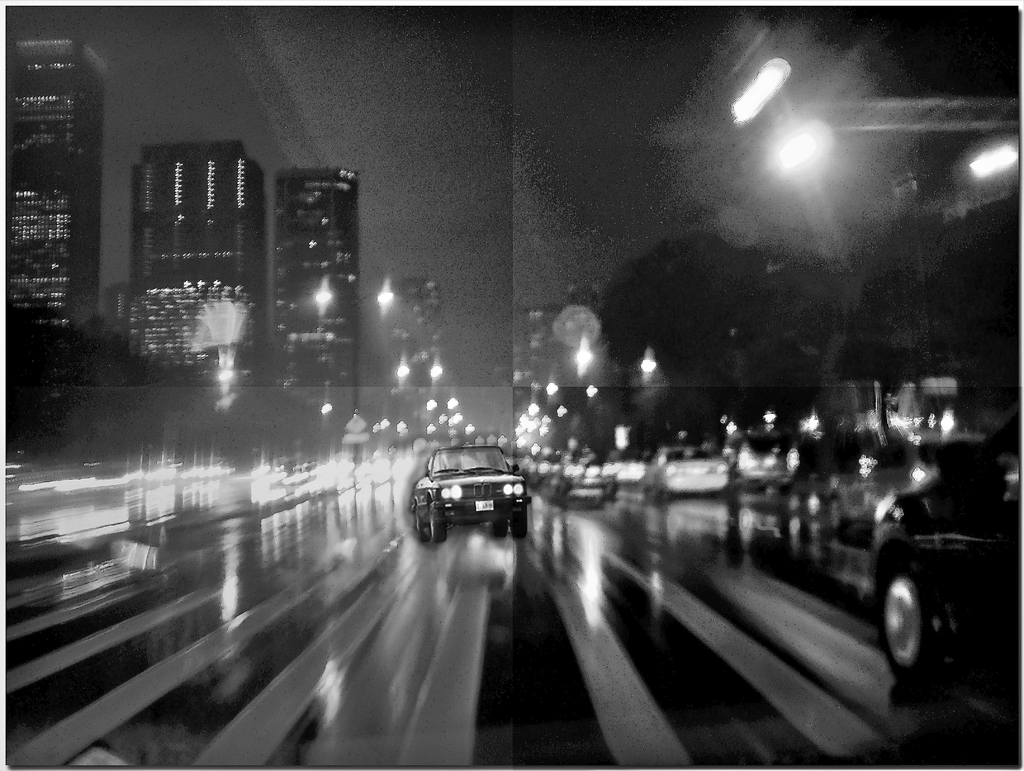mobil: (389, 431, 538, 541)
